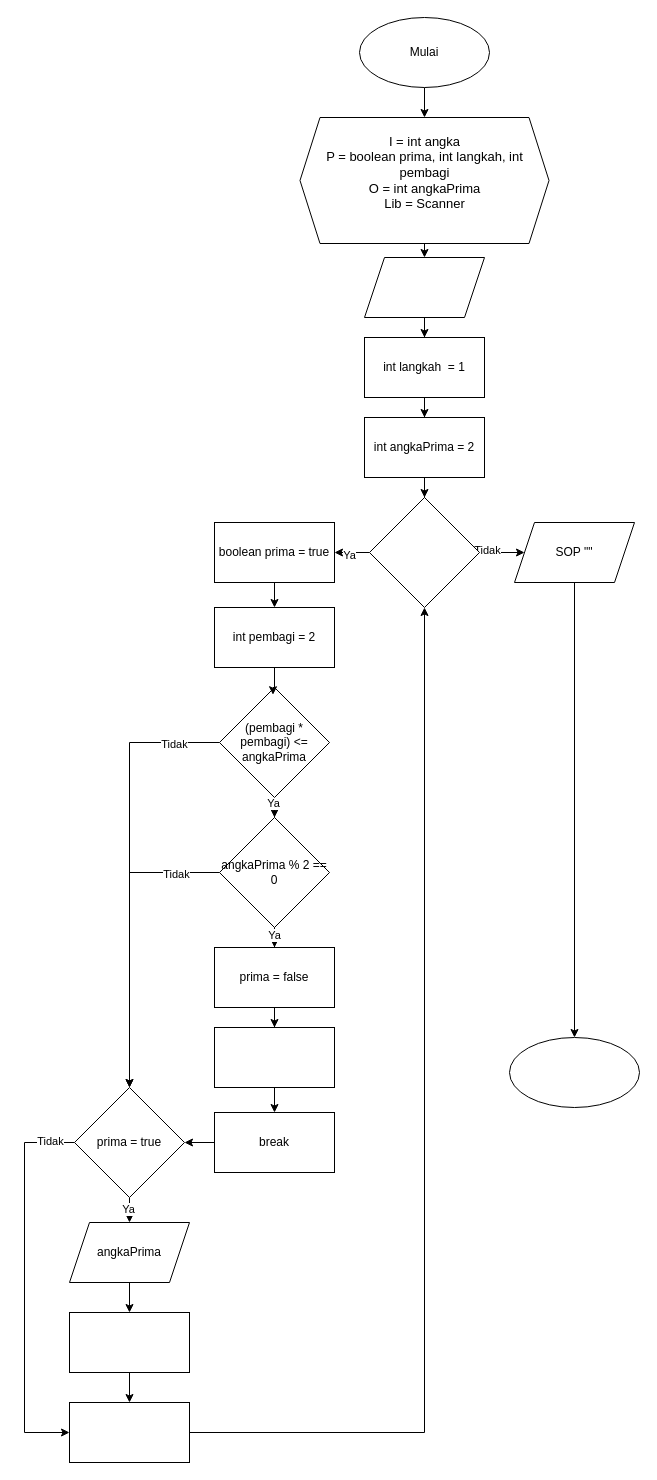
Some shapes in this 657 by 1480 pixel diagram are drawn without their labels. Here are the shapes that lost their labels. From the top down, the centre of each, then its label:
At (x=424, y=287): "int angka".
At (x=424, y=552): "langkah <= angka".
At (x=274, y=1057): "pembagi ++".
At (x=574, y=1072): "Selesai".
At (x=129, y=1342): "langkah ++".
At (x=129, y=1432): "angkaPrima ++".
